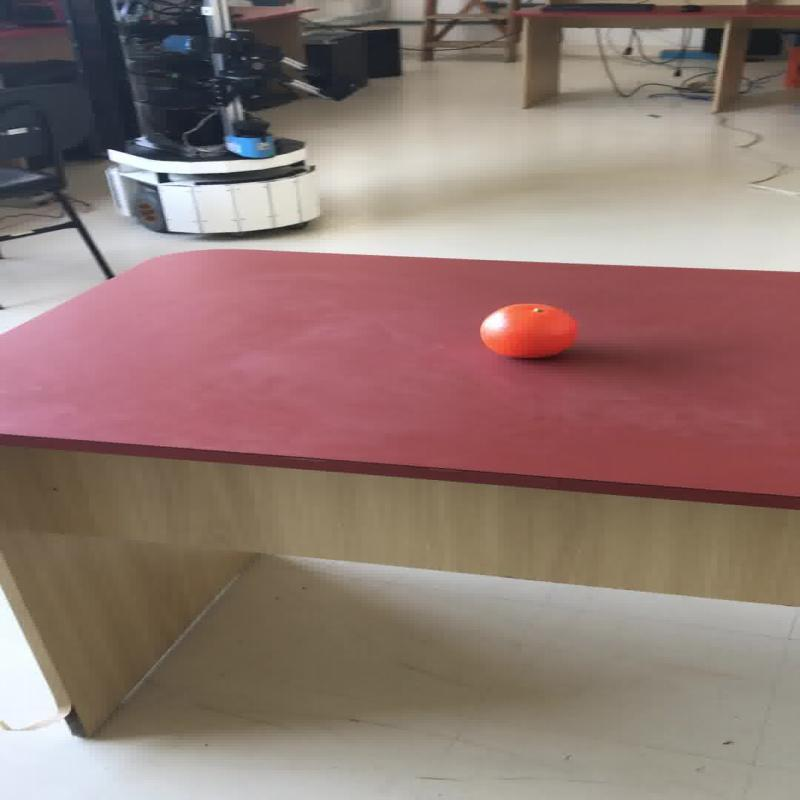orange: (477, 303, 576, 358)
